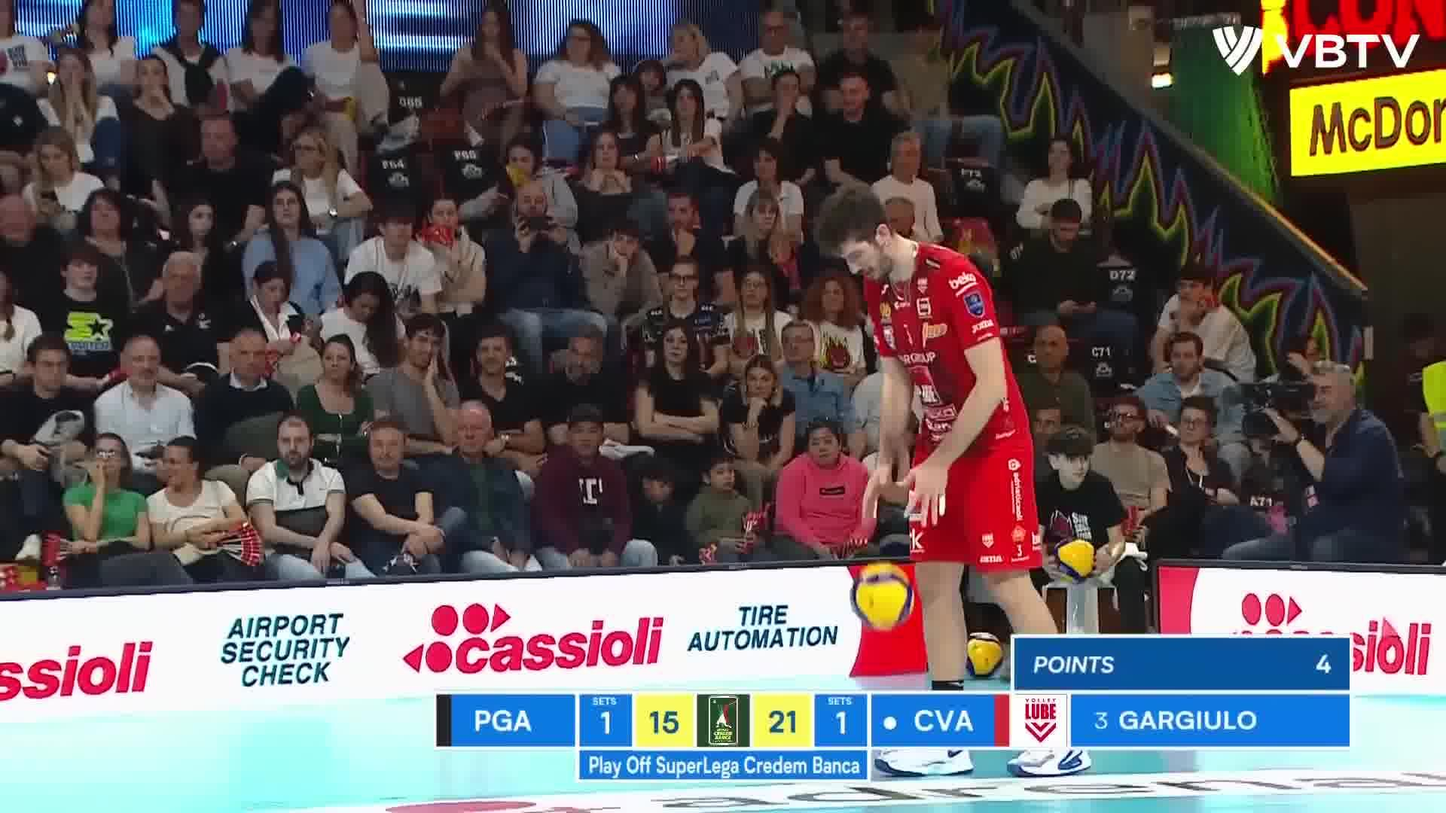balls: (844, 559, 921, 634), (1051, 537, 1098, 583), (962, 631, 1009, 677)
